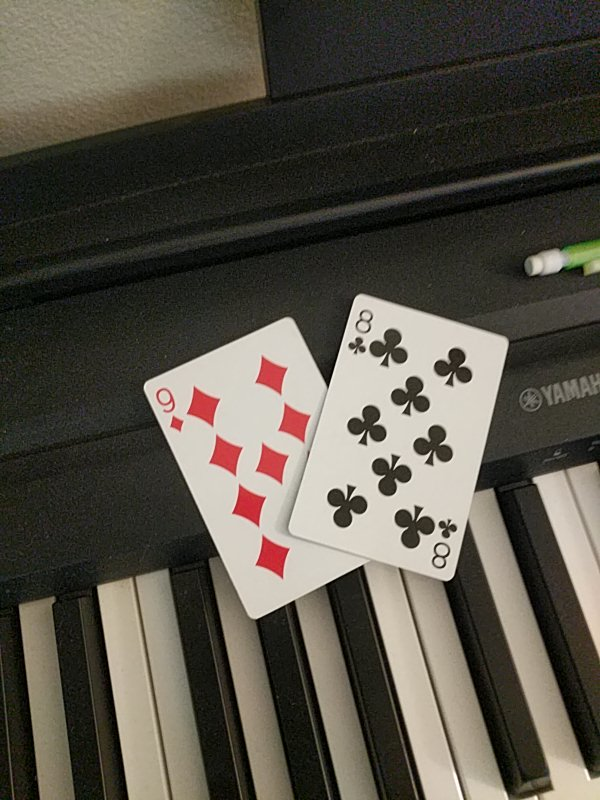Clubs: (286, 291, 511, 582)
Diamonds: (139, 318, 381, 624)
